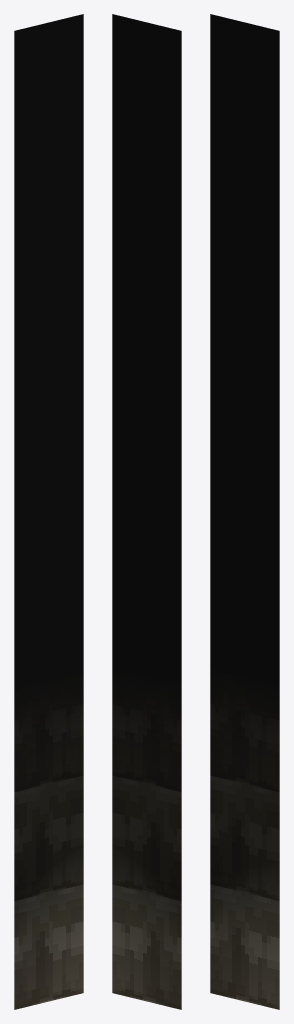
3 renders of one model, left to right at view 1: azimuth 30°, elevation 25°; view 2: azimuth 150°, elevation 25°; view 3: azimuth 330°, elevation 25°, orthographic.
Size of the model in its own units: 1 by 13.5 by 0.
1 material, 1 textured.
